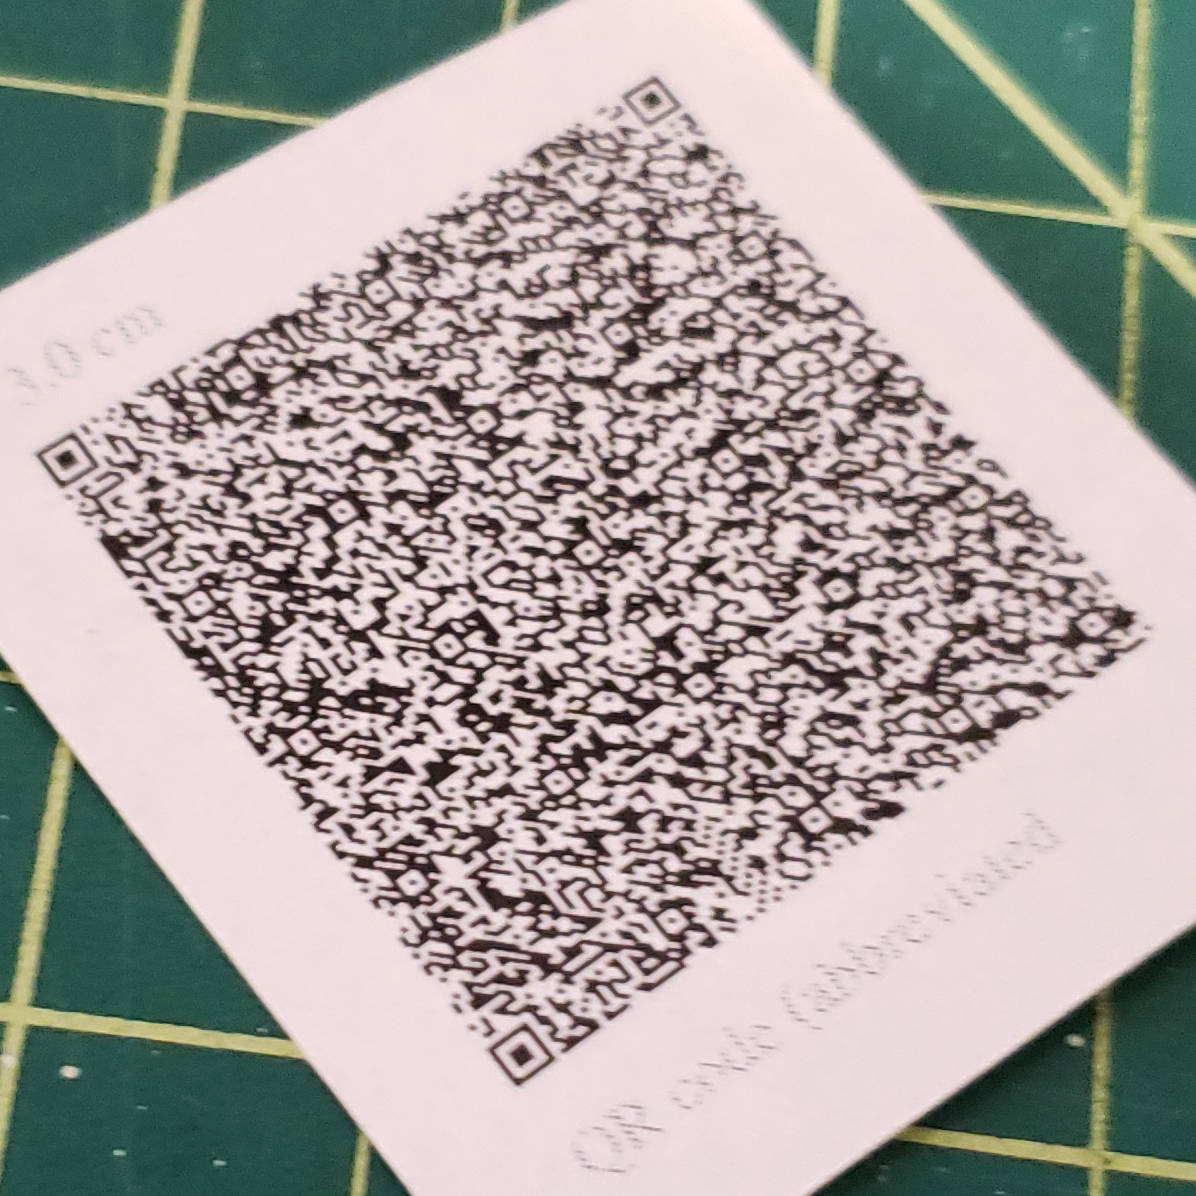QR_CODE: (15, 51, 1171, 1101)
